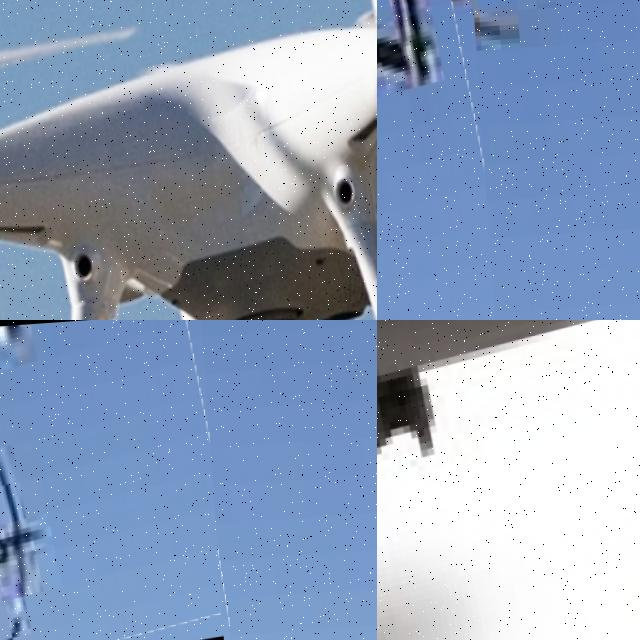drone: (0, 0, 377, 320), (377, 320, 640, 640), (0, 320, 225, 640), (377, 0, 507, 320)
